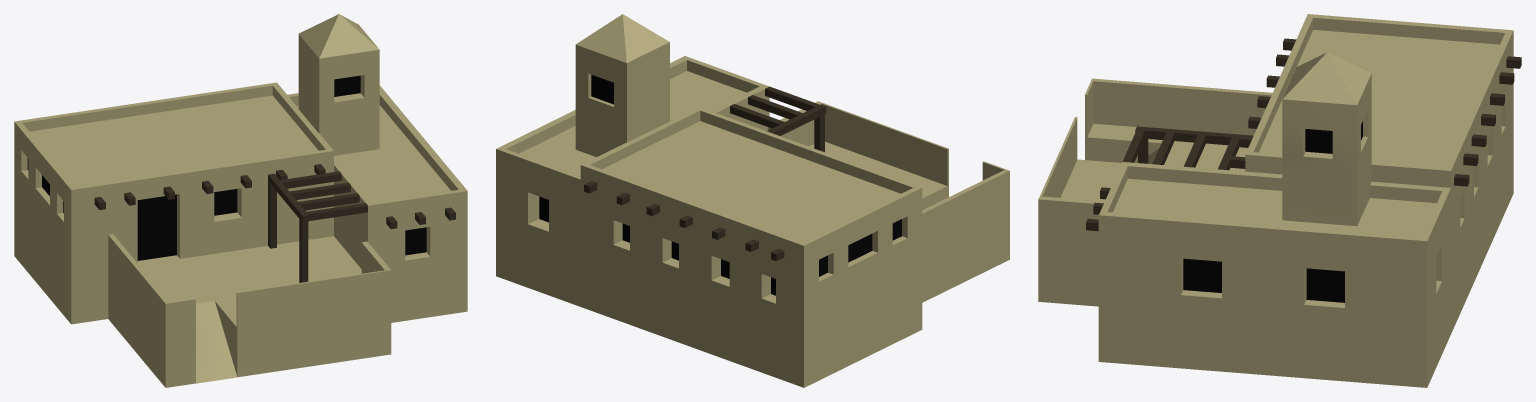
The model's file is _ouse.fbx.
3 renders of one model, left to right at view 1: azimuth 30°, elevation 25°; view 2: azimuth 150°, elevation 25°; view 3: azimuth 270°, elevation 25°, orthographic. The views are drawn at different scales.
Parts seen in each view (by area): view 1: polySurface119; view 2: polySurface119; view 3: polySurface119.
Boxes of the visible parts, <box> form: polySurface119: <box>14,14,467,387</box>; polySurface119: <box>496,14,1009,387</box>; polySurface119: <box>1038,14,1521,387</box>.
Bounding box in the file's own units: 1231 × 788 × 1194.
